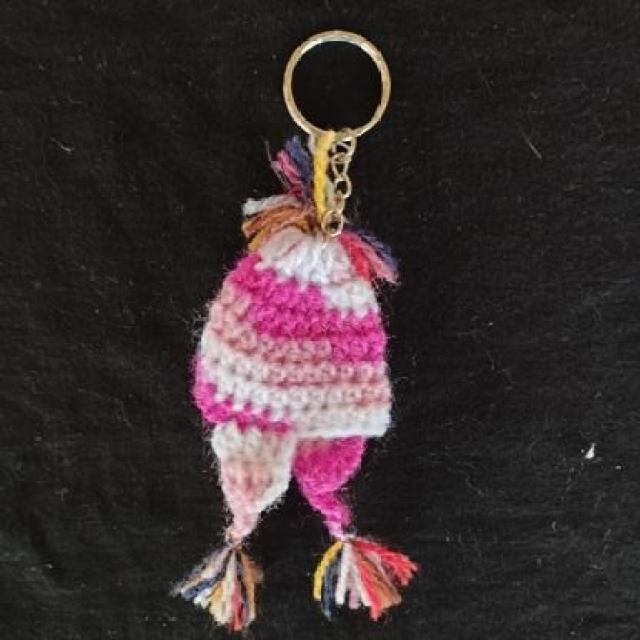Llavero: (167, 132, 419, 634)
